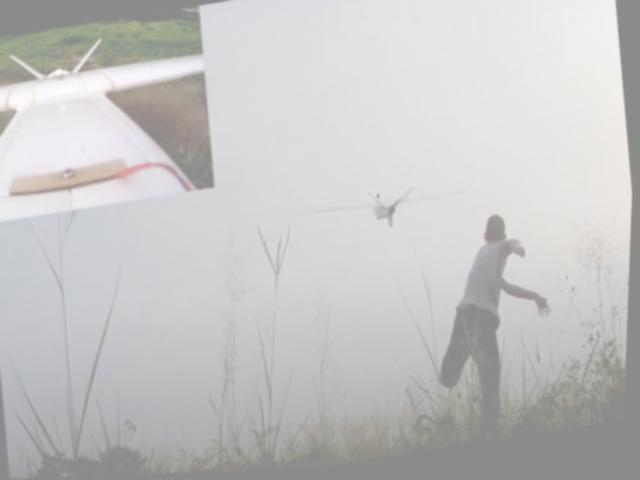iha: (296, 178, 478, 247)
